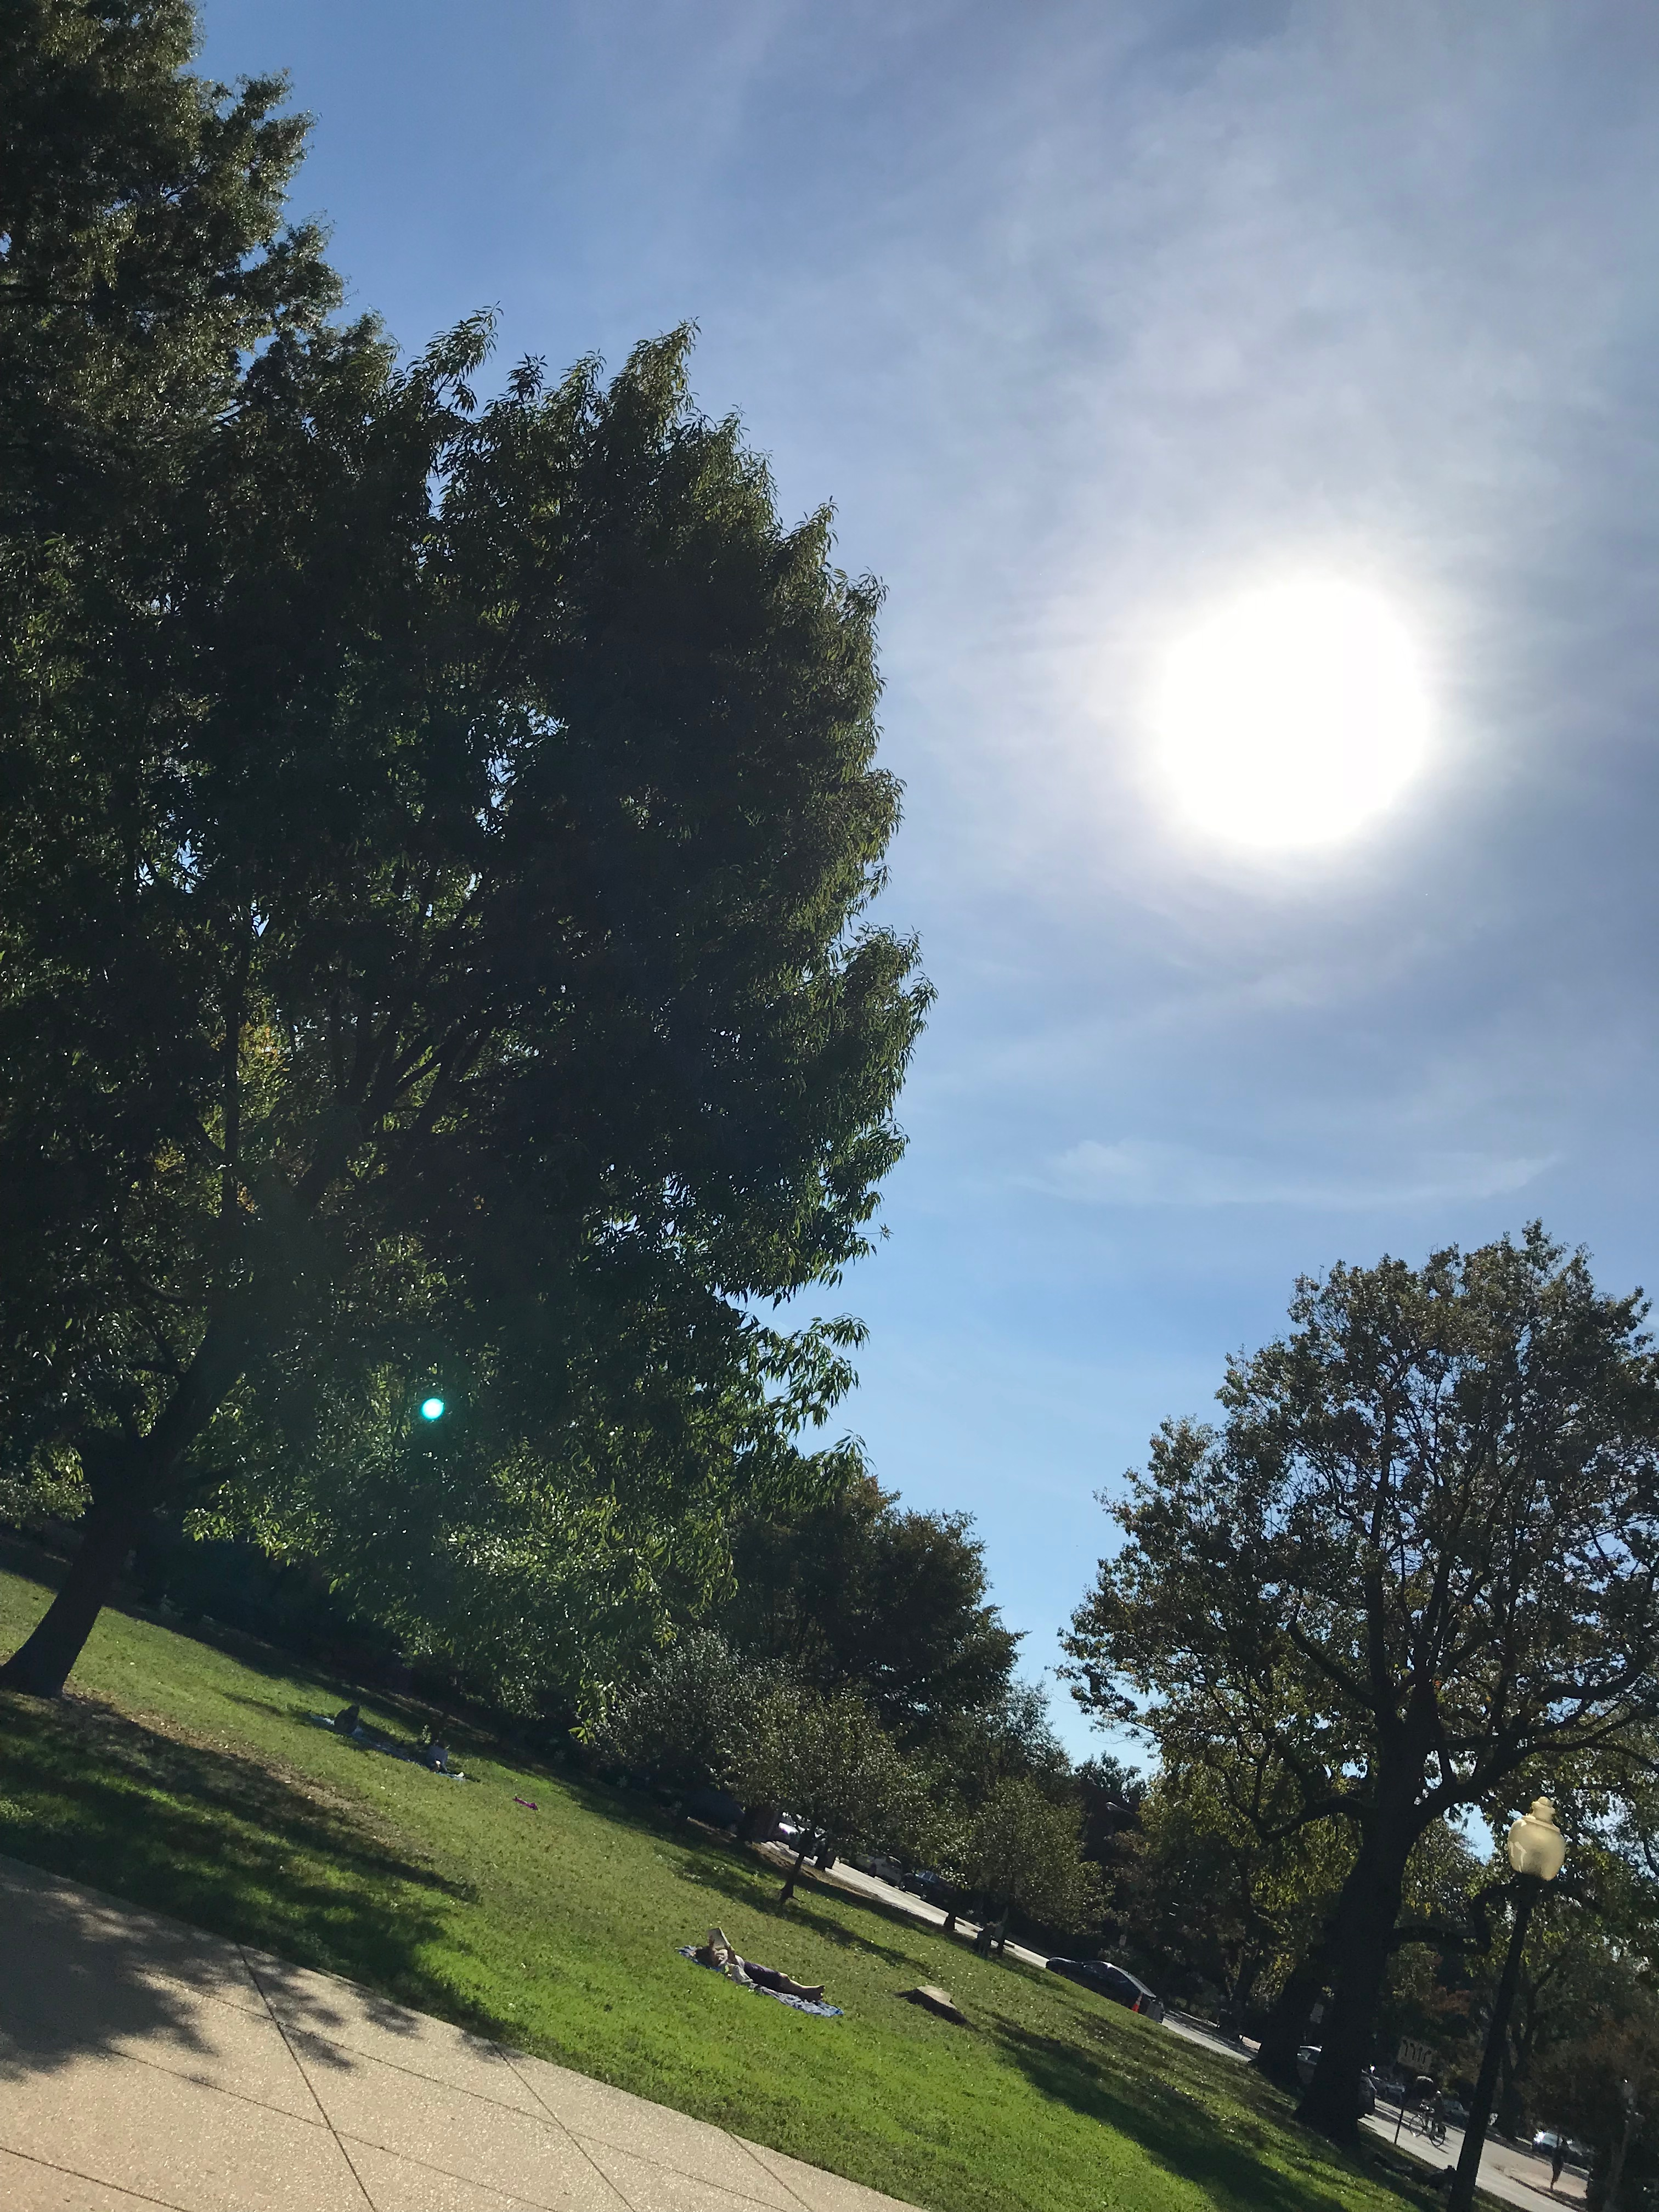flare: (420, 1397, 448, 1423)
